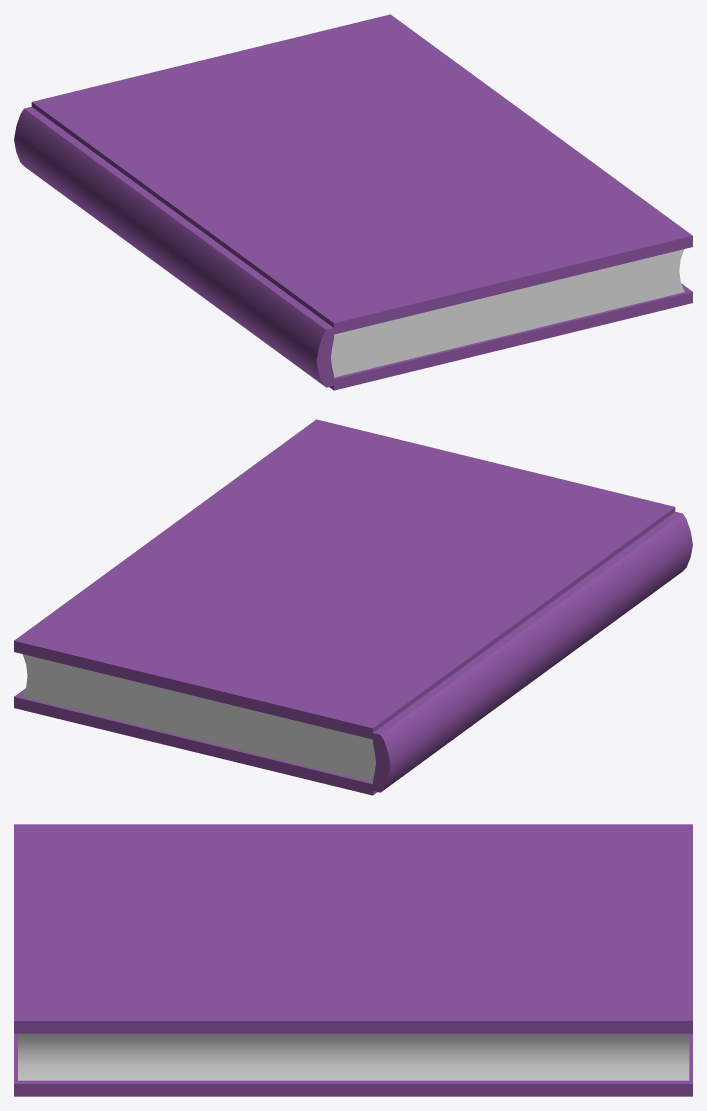
The model's file is LightPurpleBook.fbx.
3 renders of one model, top to bottom at view 1: azimuth 30°, elevation 25°; view 2: azimuth 150°, elevation 25°; view 3: azimuth 270°, elevation 25°, orthographic. The views are drawn at different scales.
Visible parts, largest first — view 1: pCube1.004, pCube1.005; view 2: pCube1.004, pCube1.005; view 3: pCube1.004, pCube1.005.
Part boxes in pixels (x1,y1,x2,y2): pCube1.004: (14, 14, 692, 390); pCube1.005: (331, 249, 684, 377); pCube1.004: (14, 419, 692, 795); pCube1.005: (22, 654, 375, 782); pCube1.004: (14, 824, 692, 1096); pCube1.005: (18, 1033, 689, 1080).
Bounding box in the file's own units: 176 × 30 × 244.
